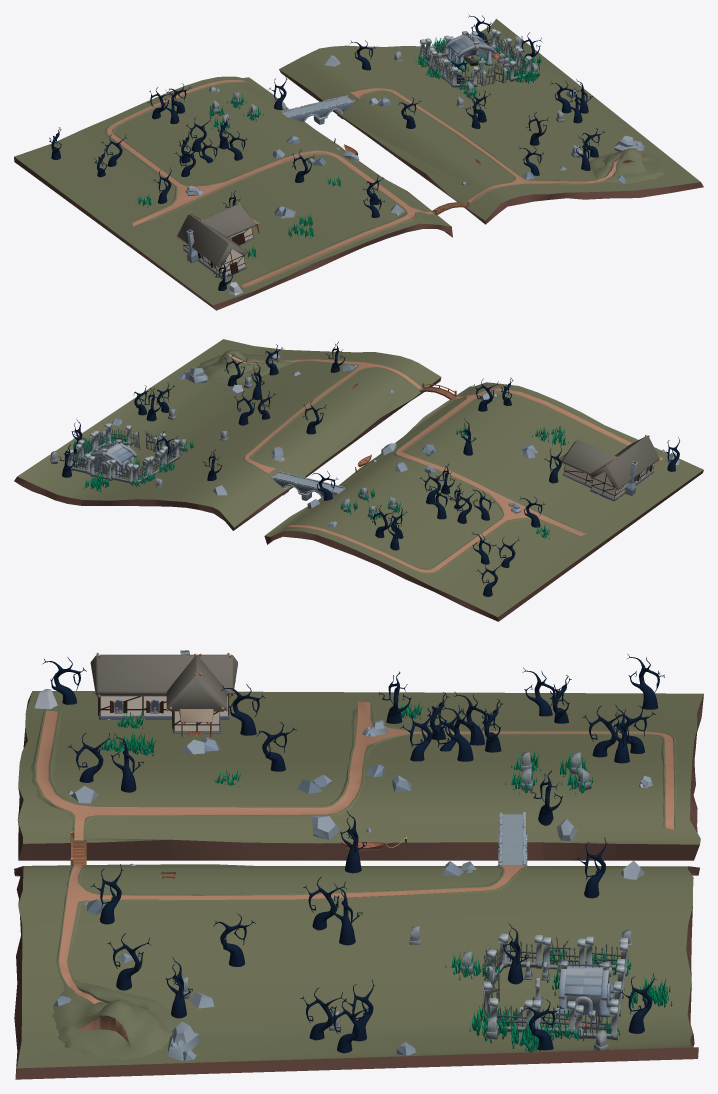
Rendered from L2_Final_Book.fbx.
3 renders of one model, top to bottom at view 1: azimuth 30°, elevation 25°; view 2: azimuth 150°, elevation 25°; view 3: azimuth 270°, elevation 25°, orthographic. The views are drawn at different scales.
Parts seen in each view (by area): view 1: Scene, House, Stone_House, Bridge; view 2: Scene, House, Stone_House, Bridge; view 3: Scene, House, Stone_House, Bridge, Wall__5_, Stone6, tree_02 01.010, tree_02 01.002, Wall__1_, tree_02 01.018, tree_02 01.023, tree_02 01.004 (+2 smaller).
Part boxes in pixels (x1=…): Scene: x1=14, y1=19, x2=703, y2=310; House: x1=177, y1=202, x2=259, y2=278; Stone_House: x1=445, y1=31, x2=495, y2=69; Bridge: x1=280, y1=95, x2=355, y2=124; Scene: x1=14, y1=339, x2=703, y2=621; House: x1=557, y1=435, x2=659, y2=501; Stone_House: x1=90, y1=439, x2=137, y2=477; Bridge: x1=270, y1=471, x2=345, y2=500; Scene: x1=14, y1=691, x2=703, y2=1079; House: x1=90, y1=650, x2=237, y2=736; Stone_House: x1=557, y1=960, x2=613, y2=1017; Bridge: x1=498, y1=812, x2=527, y2=865; Wall__5_: x1=575, y1=1005, x2=618, y2=1040; Stone6: x1=167, y1=1021, x2=198, y2=1060; tree_02 01.010: x1=107, y1=933, x2=151, y2=990; tree_02 01.002: x1=618, y1=973, x2=656, y2=1033; Wall__1_: x1=532, y1=1000, x2=575, y2=1034; tree_02 01.018: x1=220, y1=684, x2=265, y2=735; tree_02 01.023: x1=443, y1=705, x2=479, y2=761; tree_02 01.004: x1=213, y1=913, x2=255, y2=966.
Size of the model in its own units: 9342 by 1324 by 6892.
